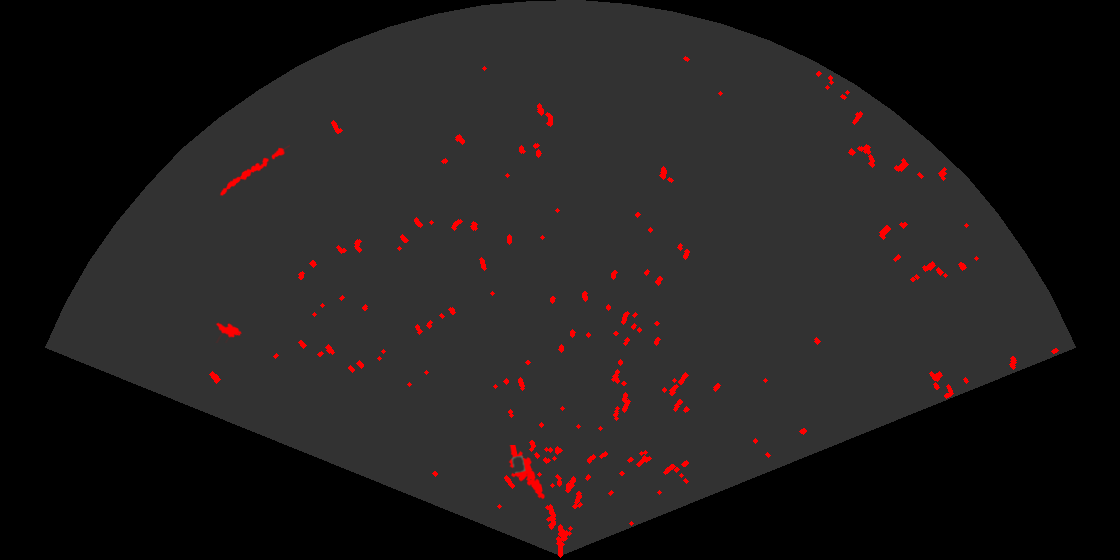AUV: (214, 321, 243, 343)
chain: (218, 143, 290, 197)
frogman: (507, 445, 546, 501)
